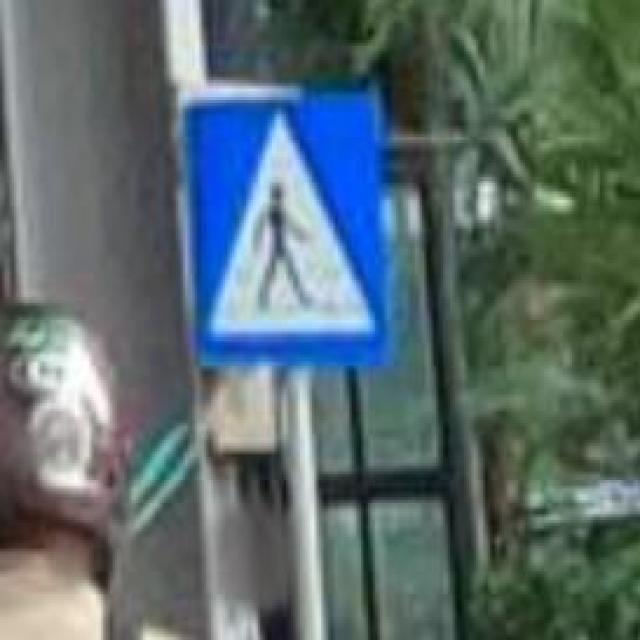traffic sign: (178, 100, 387, 372)
